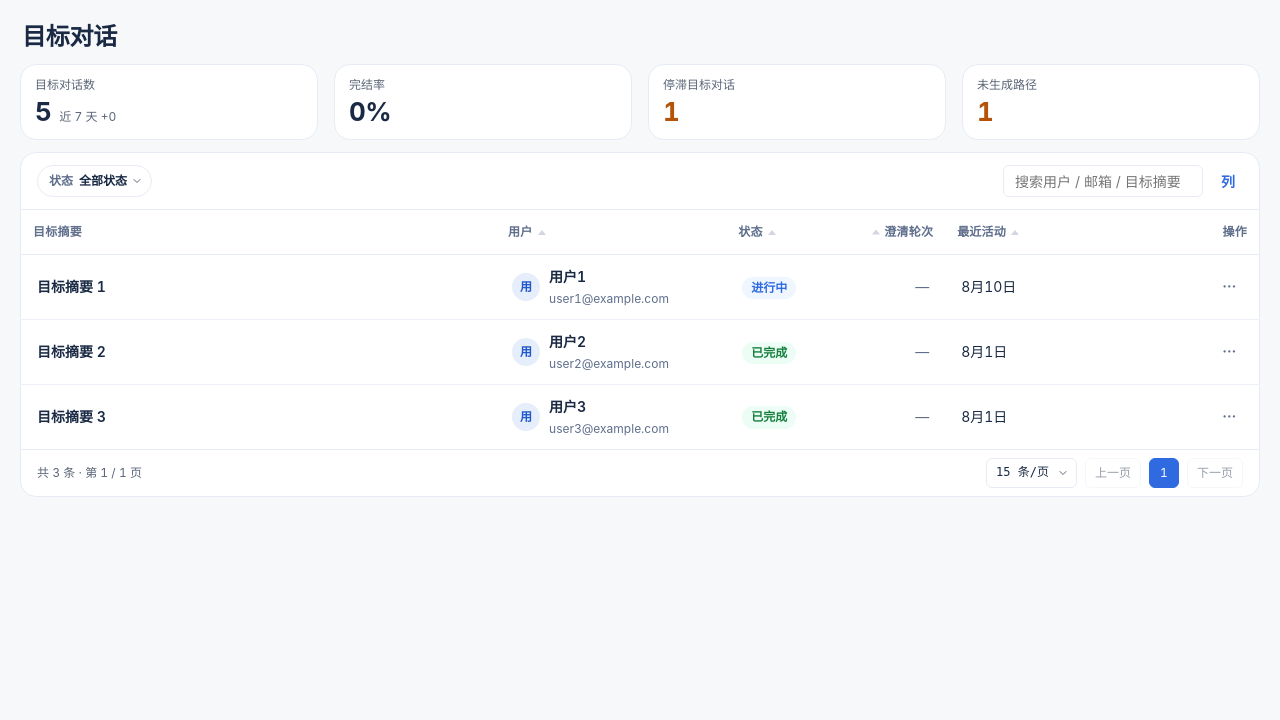
Test: GoalConversations 状态桶口径 / 停滞信号 / 行点击语义（P1#5、P1#6、2026-10-02 对齐） › 「重建路径」只对已完成行开放：未完成行的菜单项禁用，文案按有无路径切换
Click the button with class "mk-menu__btn" in the row of "目标摘要 1".
click(1229, 287)  # box [1215,273,1243,301]
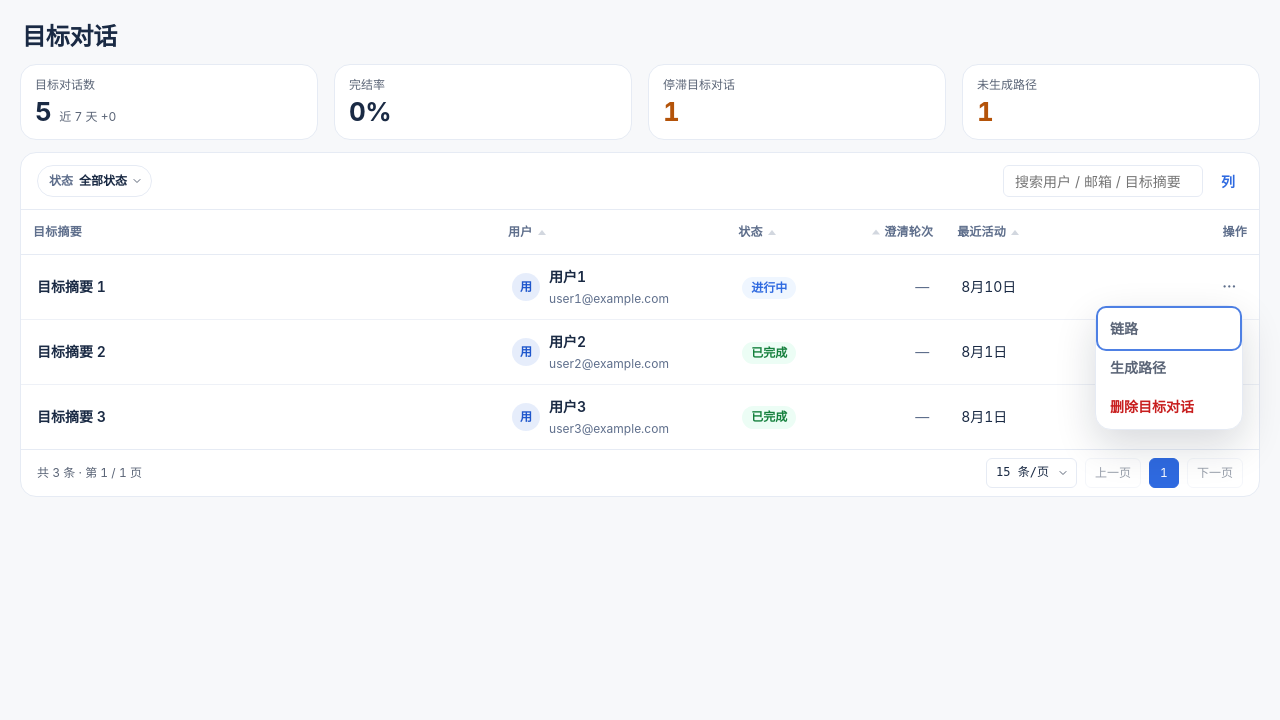
Check: the menu item with class "mk-menu__item" reads "生成路径", box [1100,349,1238,386]
Check: the menu item with class "mk-menu__item" showing "生成路径" is disabled, box [1100,349,1238,386]
Click the button with class "mk-menu__btn" showing "⋯".
click(1229, 287)  # box [1215,273,1243,301]
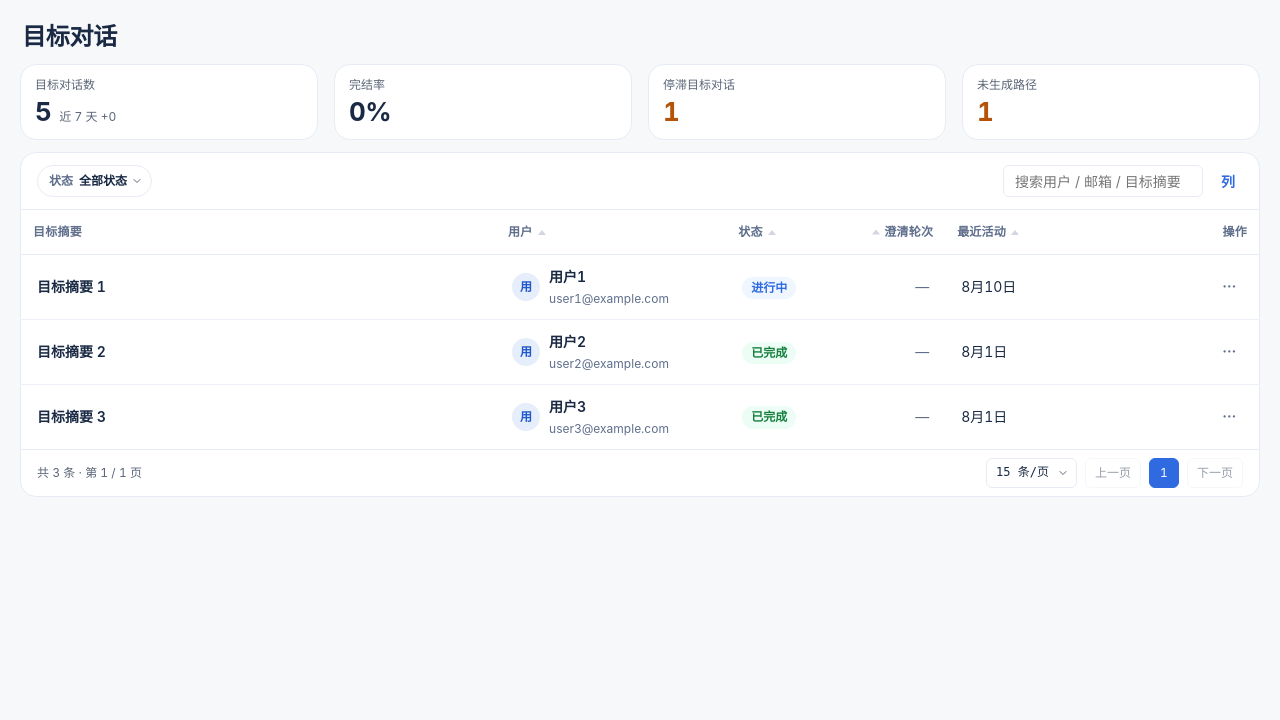
Click the button with class "mk-menu__btn" in the row of "目标摘要 2".
click(1229, 352)  # box [1215,338,1243,366]
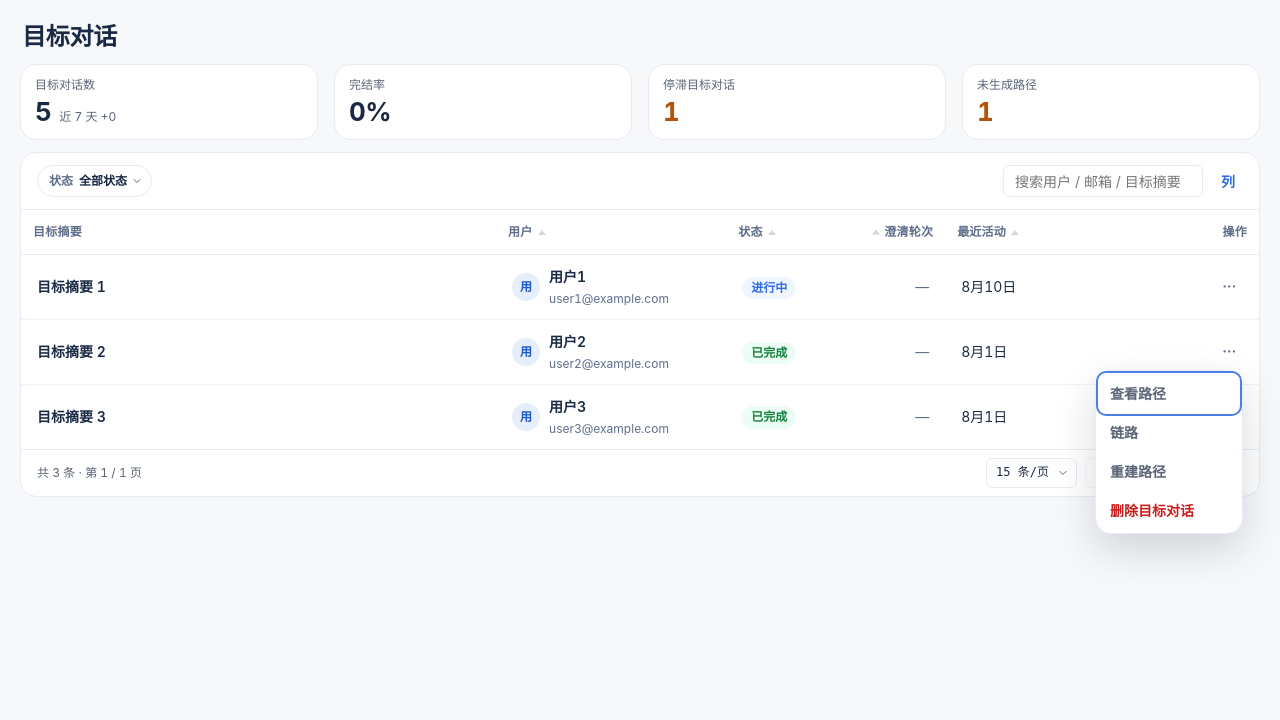
Check: the menu item with class "mk-menu__item" reads "重建路径", box [1100,453,1238,490]
Check: the menu item with class "mk-menu__item" showing "重建路径" is enabled, box [1100,453,1238,490]
Click the button with class "mk-menu__btn" in the row of "目标摘要 2".
click(1229, 352)  # box [1215,338,1243,366]
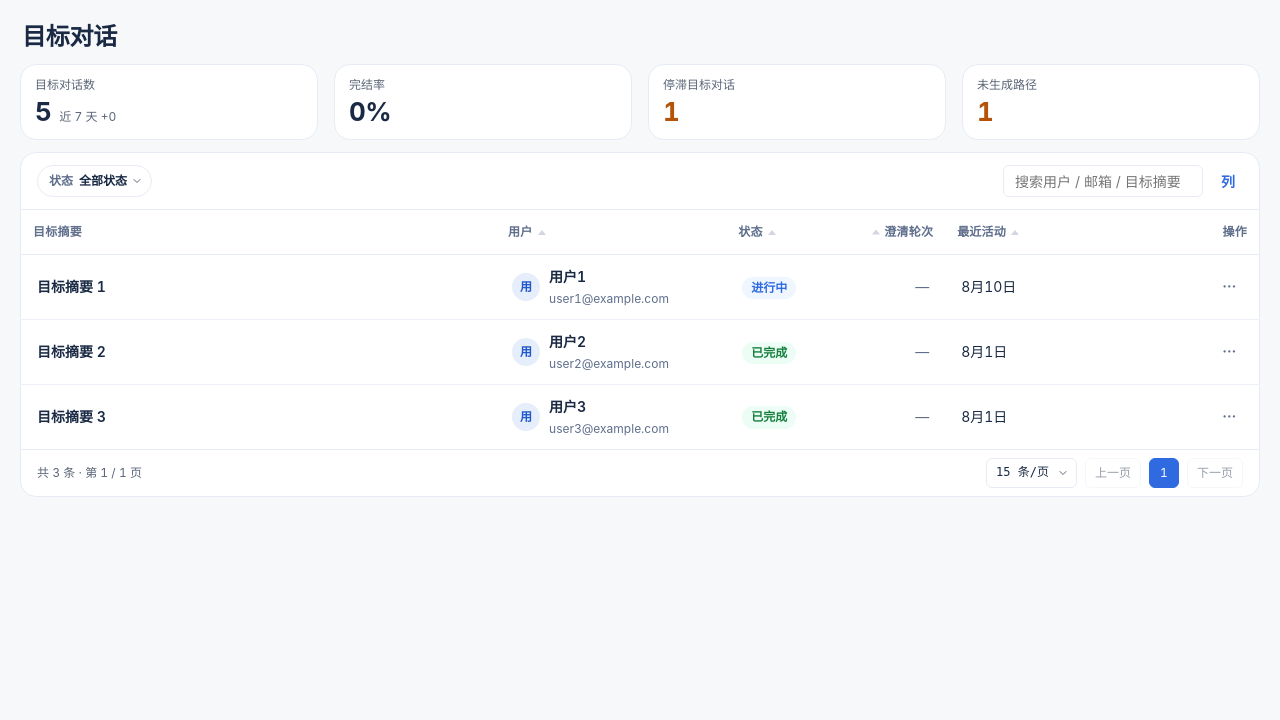
Click the button with class "mk-menu__btn" in the row of "目标摘要 3".
click(1229, 417)  # box [1215,403,1243,431]
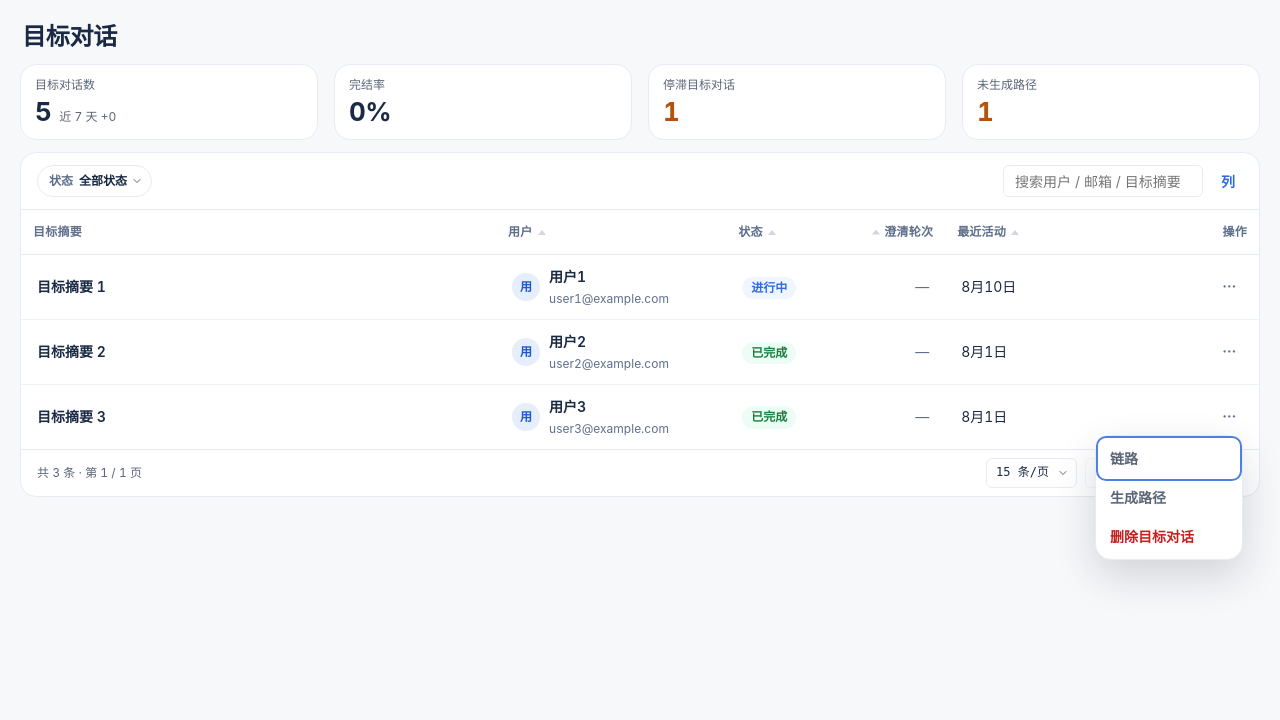
Check: the menu item with class "mk-menu__item" reads "生成路径", box [1100,479,1238,516]
Check: the menu item with class "mk-menu__item" showing "生成路径" is enabled, box [1100,479,1238,516]
